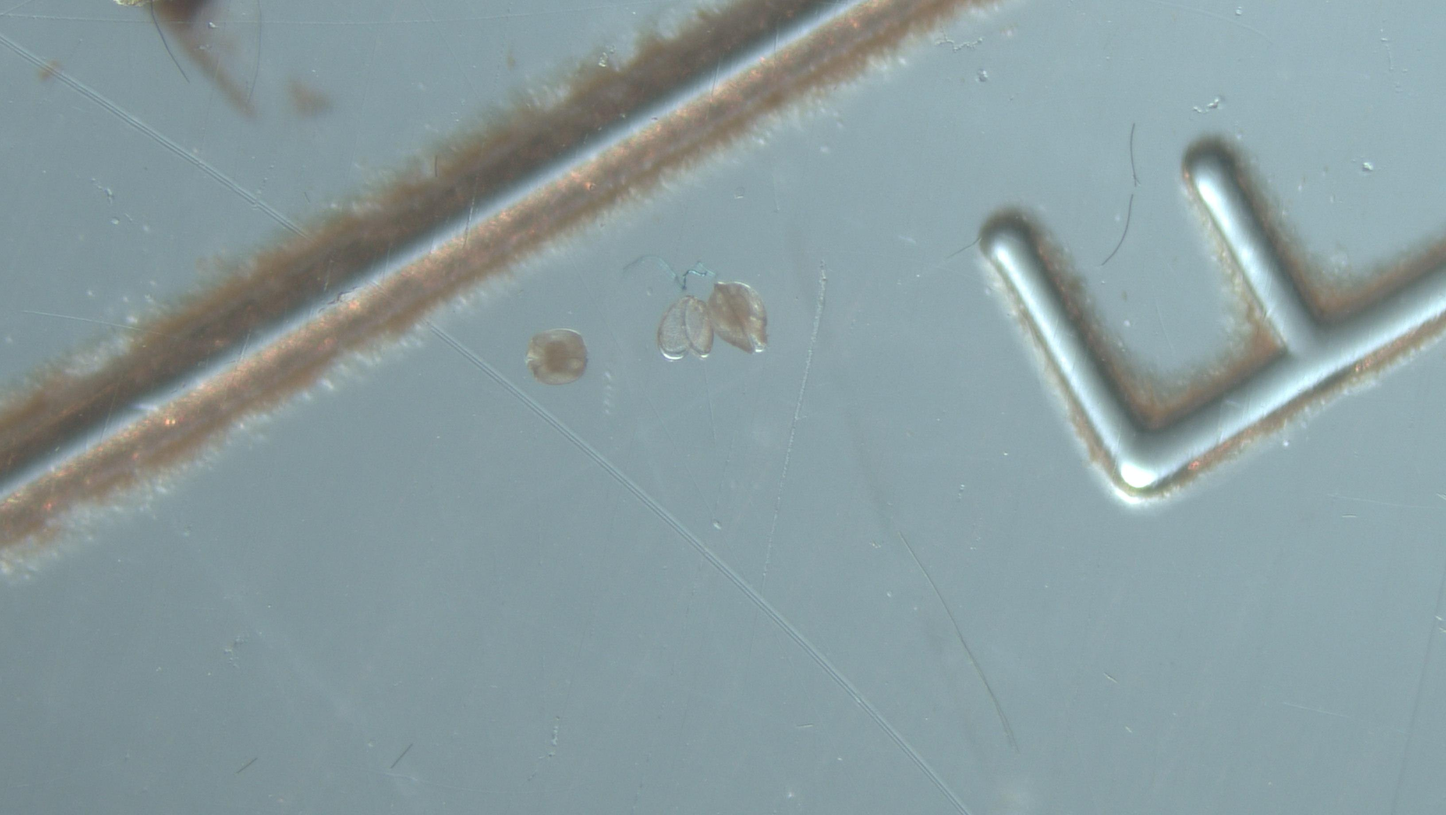dead: (657, 296, 713, 360), (683, 298, 714, 357)
live: (707, 282, 768, 353), (526, 329, 587, 385)
